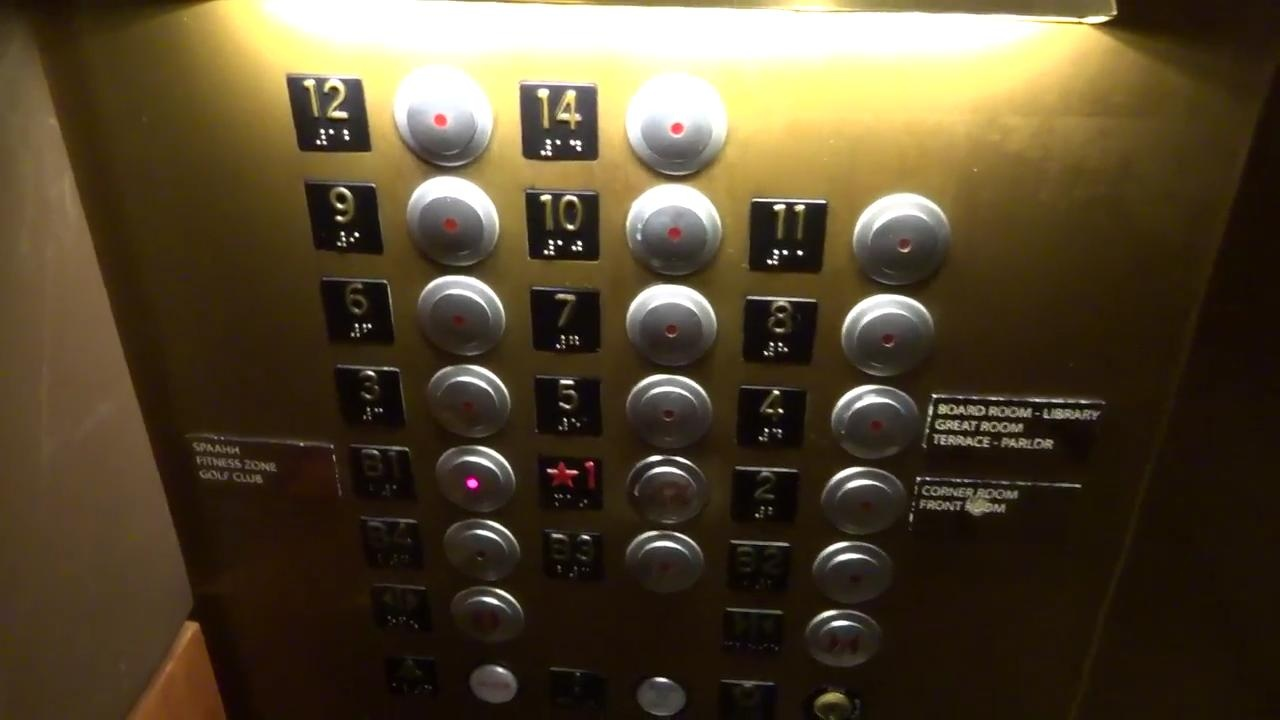1: (537, 451, 604, 514)
10: (523, 188, 602, 264)
11: (749, 197, 828, 274)
12: (286, 72, 373, 153)
14: (519, 80, 601, 162)
2: (731, 464, 800, 525)
3: (333, 362, 410, 429)
4: (736, 384, 807, 451)
5: (534, 374, 604, 439)
6: (319, 276, 396, 347)
7: (529, 284, 603, 354)
8: (742, 294, 818, 366)
9: (302, 178, 386, 255)
B1: (350, 442, 419, 502)
B2: (726, 539, 791, 593)
B3: (541, 526, 606, 583)
B4: (360, 514, 424, 570)
alarm: (383, 654, 438, 700)
blur: (625, 452, 709, 526), (548, 667, 607, 720)
close: (802, 608, 885, 669), (721, 606, 785, 657)
empty: (623, 72, 730, 178), (392, 70, 495, 173), (624, 179, 723, 279), (852, 191, 952, 289), (403, 173, 501, 269), (412, 271, 509, 359), (839, 292, 936, 378), (623, 282, 718, 367), (622, 371, 714, 451), (829, 383, 922, 461), (424, 362, 512, 440), (819, 466, 909, 536), (433, 443, 517, 514), (810, 539, 895, 604), (623, 531, 706, 596), (442, 518, 521, 584)
open: (450, 585, 526, 643), (369, 583, 434, 634)
text_blur: (466, 657, 520, 706), (634, 674, 690, 719)
